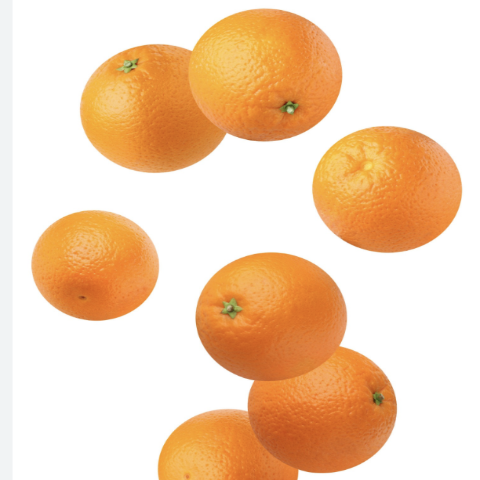orange: (180, 0, 351, 147), (305, 124, 474, 272), (234, 339, 420, 473), (70, 39, 239, 175), (185, 250, 351, 386), (28, 201, 159, 326), (148, 395, 301, 480)
